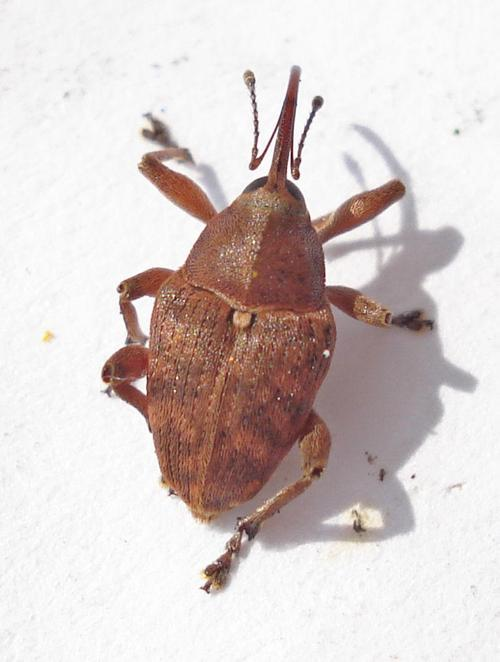Curculionidae: (100, 65, 434, 594)
